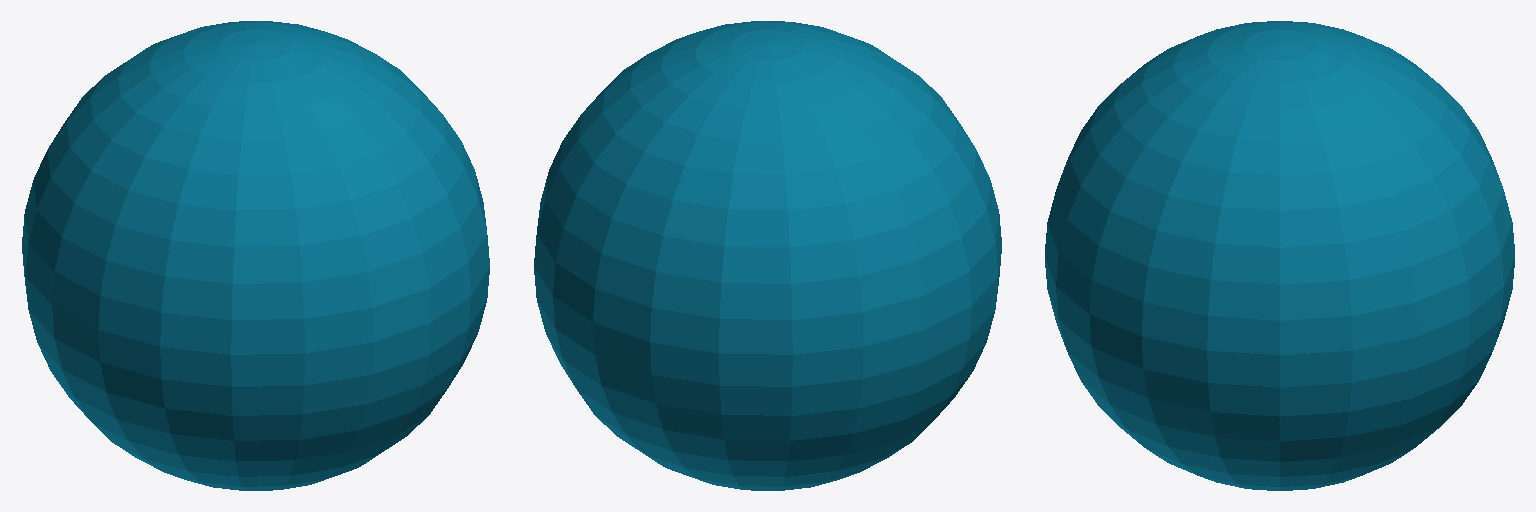
File: greenishmarbletest.obj
3 views of the same model, side by side, from view 1: azimuth 30°, elevation 25°; view 2: azimuth 150°, elevation 25°; view 3: azimuth 270°, elevation 25° (orthographic).
Parts seen in each view (by area): view 1: glassmarblehelixcenter:pSphere4; view 2: glassmarblehelixcenter:pSphere4; view 3: glassmarblehelixcenter:pSphere4.
Boxes of the visible parts, box(x1,y1,x2,y2) form: glassmarblehelixcenter:pSphere4: box(22, 21, 489, 490); glassmarblehelixcenter:pSphere4: box(534, 21, 1001, 490); glassmarblehelixcenter:pSphere4: box(1045, 21, 1514, 490).
Bounding box in the file's own units: 2 × 2 × 2.